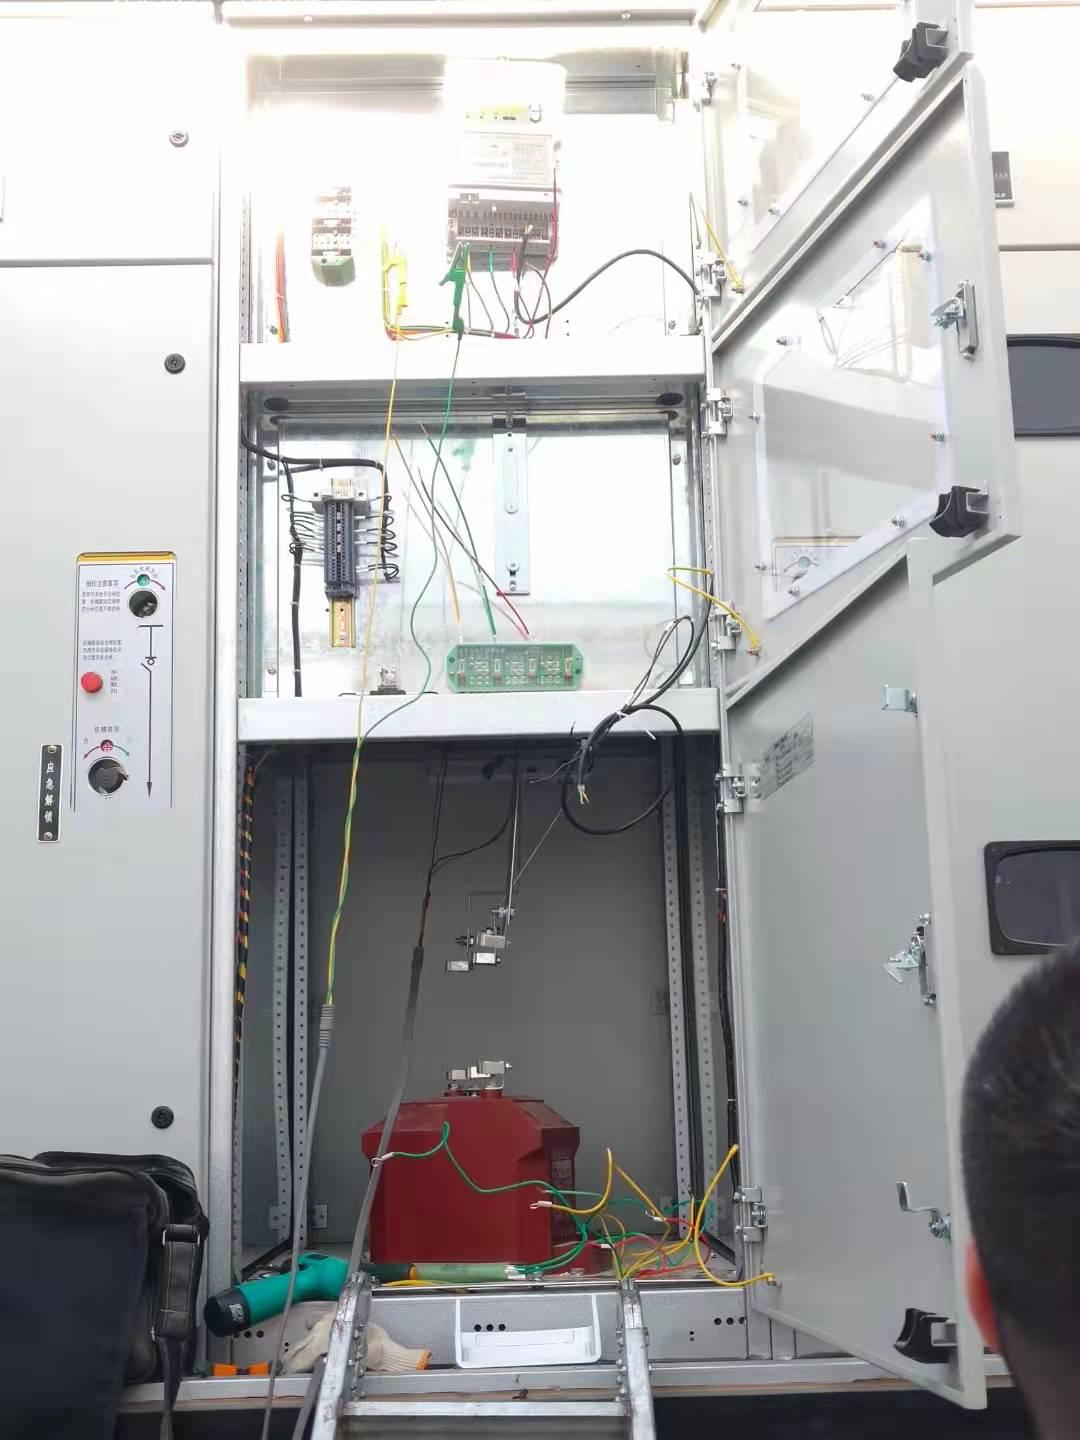digital: (446, 59, 565, 205)
